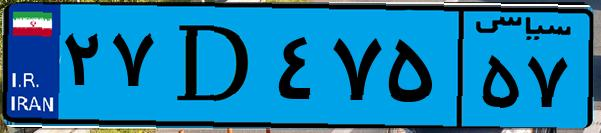2: (57, 26, 110, 100)
4: (270, 28, 330, 110)
5: (385, 28, 445, 110), (475, 38, 525, 113)
7: (330, 28, 385, 110), (525, 38, 570, 115), (110, 28, 158, 98)
D: (158, 12, 270, 120)
